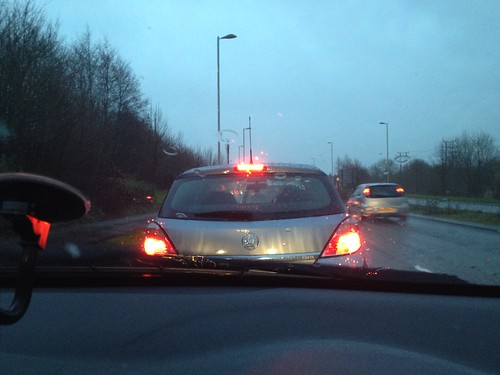car: (140, 156, 363, 273), (343, 180, 413, 226)
sky: (91, 1, 494, 146)
vegetation: (1, 1, 146, 194), (415, 148, 500, 201)
